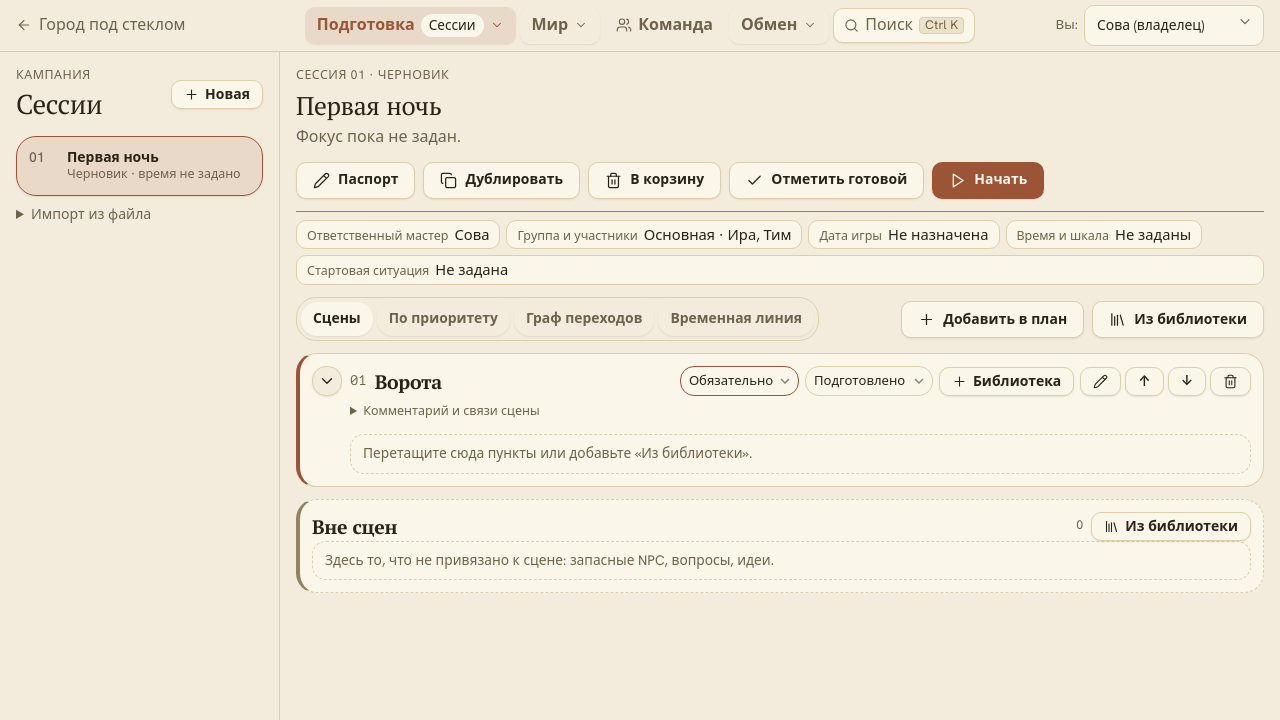
stage 4: masters and permissions › lets only the responsible master or the owner start a session
expect the button "Начать" is enabled: met, box x1=932 y1=162 x2=1044 y2=198
Select "Лис" in the dropdown named "Кто работает в этом браузере" at [1174, 26], box x1=1084 y1=5 x2=1264 y2=46
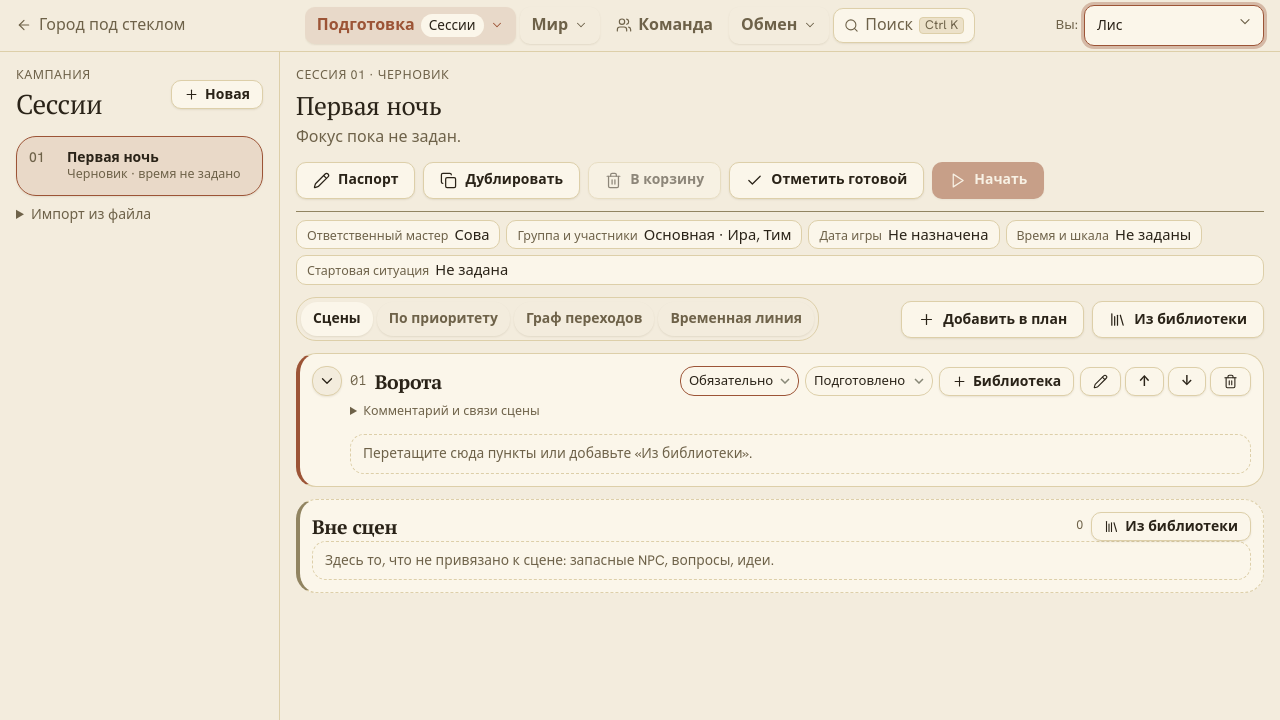
expect the button "Начать" is disabled: met, box x1=932 y1=162 x2=1044 y2=198
